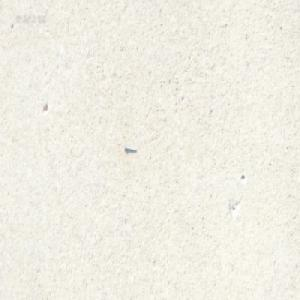Nail: (123, 143, 136, 152)
